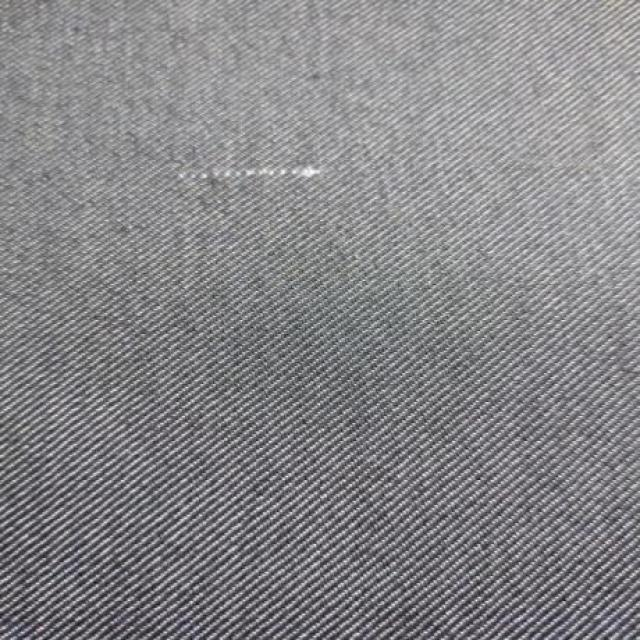Thread_other: (142, 124, 376, 245)
